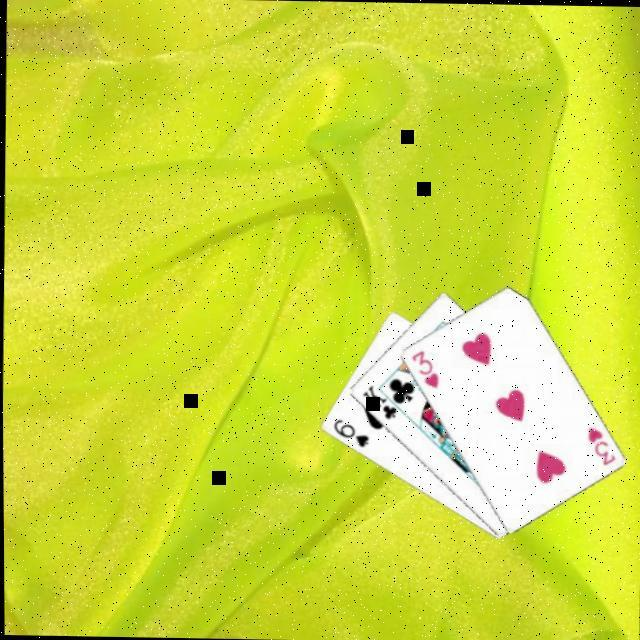3H: (581, 421, 616, 466), (404, 344, 439, 388)
6S: (326, 414, 369, 448)
KC: (355, 379, 405, 420)
